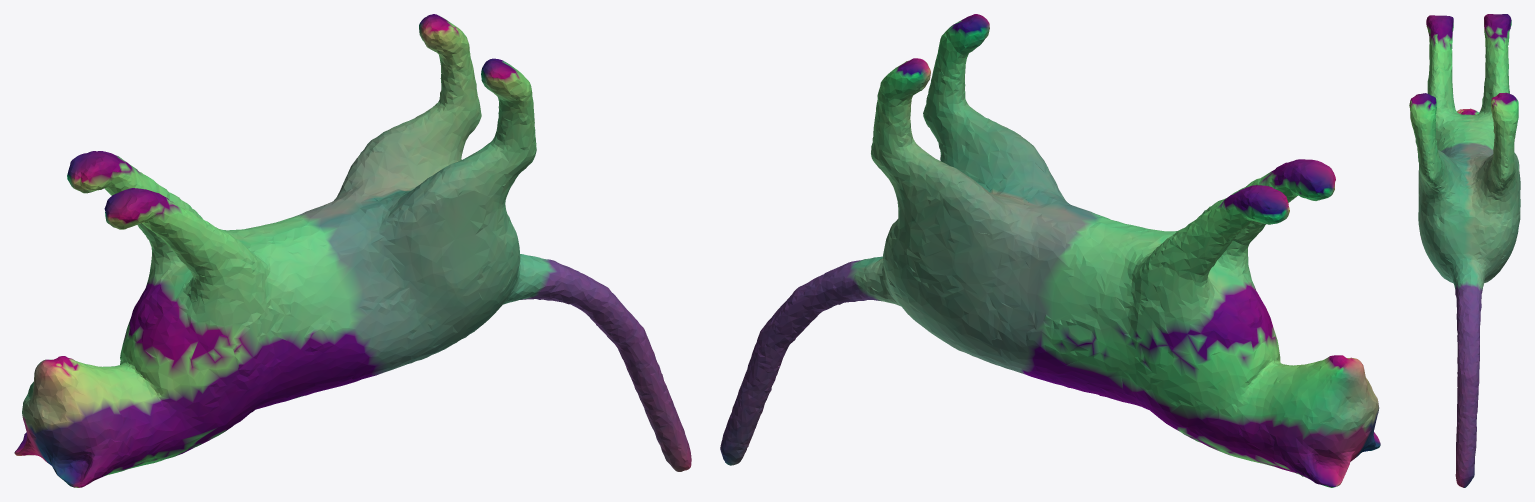
File: cat-8.off.obj
3 renders of one model, left to right at view 1: azimuth 30°, elevation 25°; view 2: azimuth 150°, elevation 25°; view 3: azimuth 270°, elevation 25°, orthographic. The views are drawn at different scales.
Size of the model in its own units: 1.31 by 0.9222 by 0.2883.
